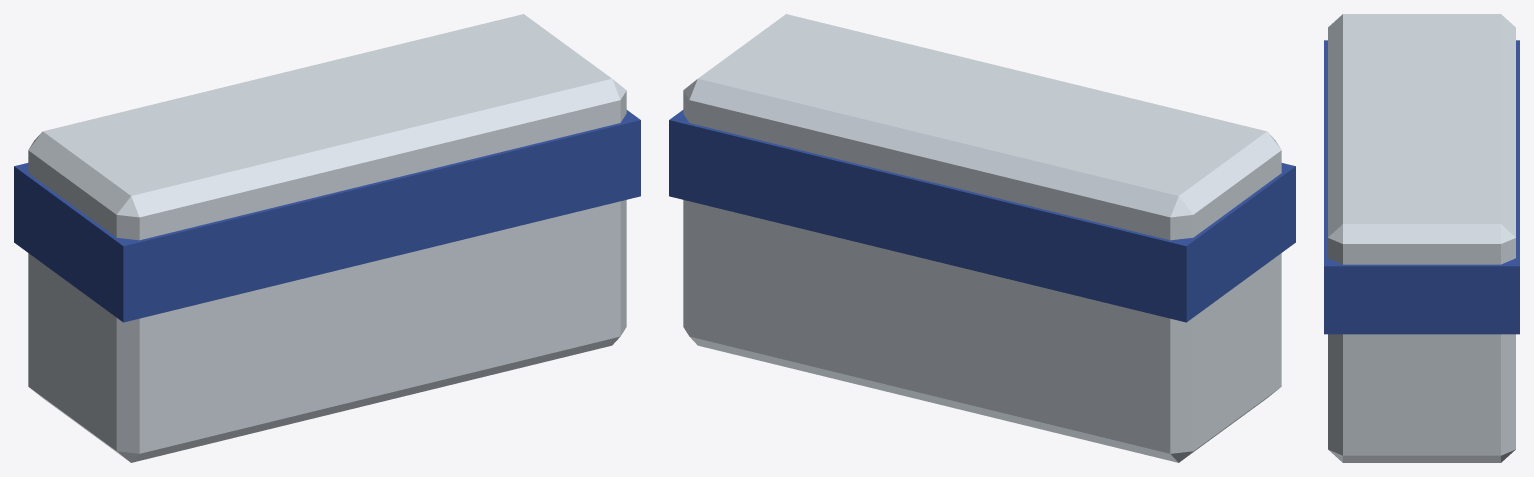
Rendered from sleeping_pills.glb.
3 views of the same model, side by side, from view 1: azimuth 30°, elevation 25°; view 2: azimuth 150°, elevation 25°; view 3: azimuth 270°, elevation 25° (orthographic). The views are drawn at different scales.
Parts seen in each view (by area): view 1: Item; view 2: Item; view 3: Item.
Part boxes in pixels (left/top/right/bottom): Item: left=14, top=14, right=640, bottom=462; Item: left=669, top=14, right=1295, bottom=462; Item: left=1324, top=14, right=1519, bottom=462.
Size of the model in its own units: 0.071 by 0.035 by 0.026.
